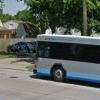Bus: (34, 31, 100, 90)
